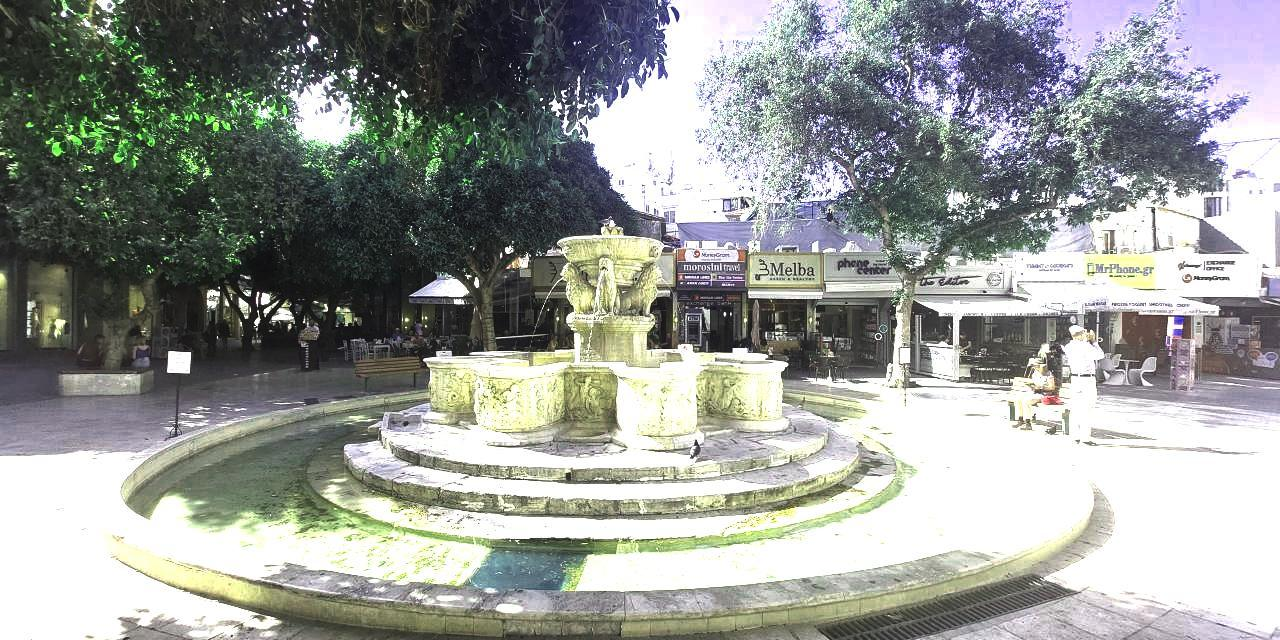Liontaria: (432, 228, 784, 452)
